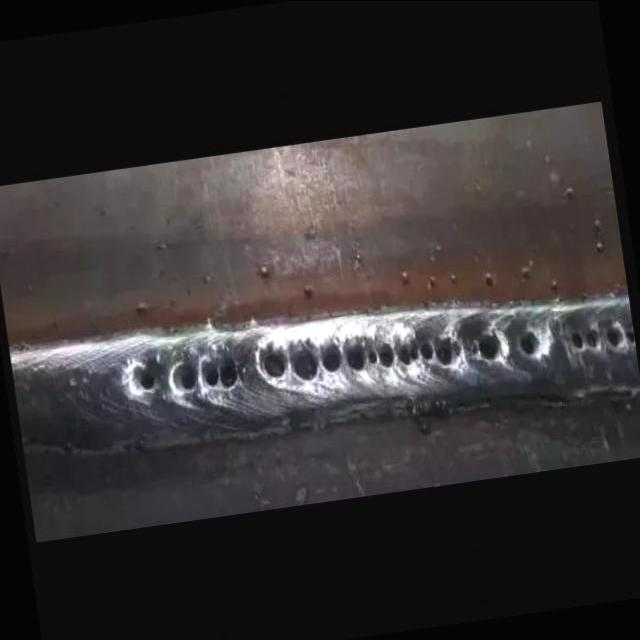defect: (260, 335, 466, 386), (166, 351, 243, 399), (571, 324, 636, 355), (474, 329, 503, 370), (518, 330, 541, 363), (132, 364, 159, 390)
